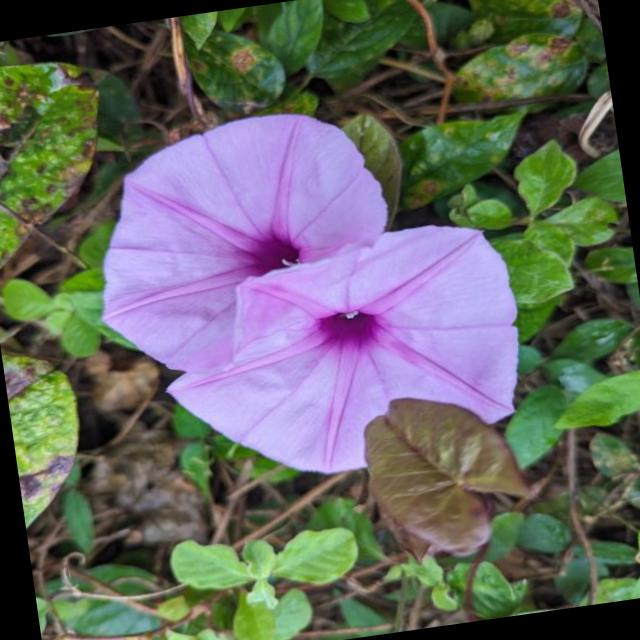ipomoea: (74, 81, 542, 506), (74, 96, 412, 388)
